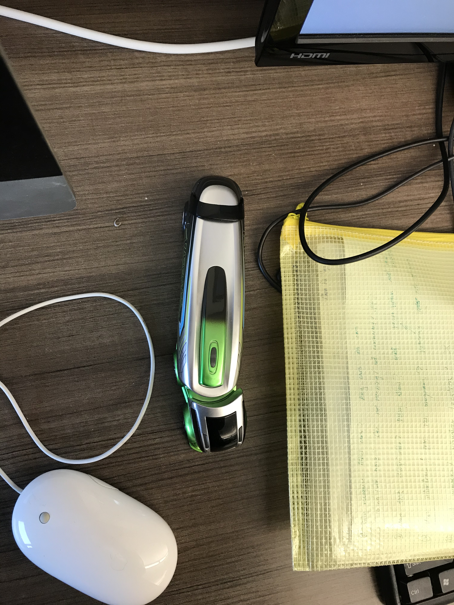Freewheel: (178, 174, 248, 457)
